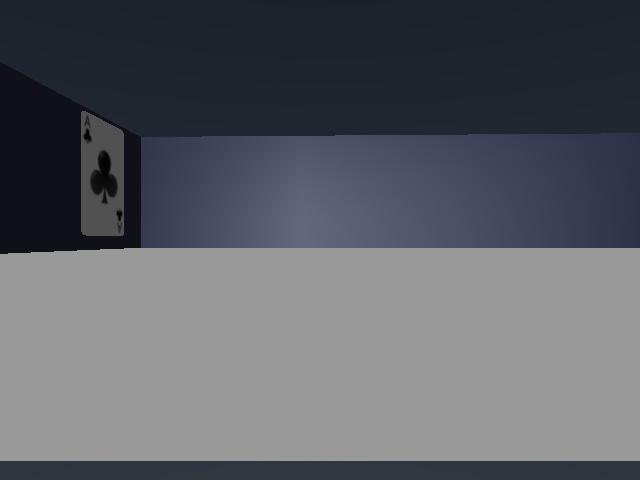club: (81, 112, 124, 235)
